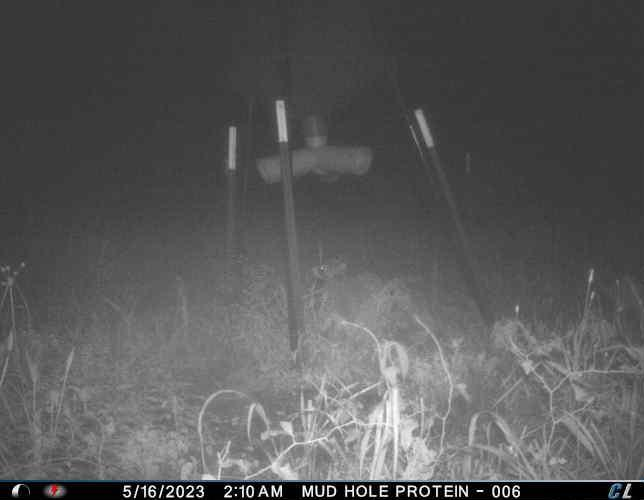Raccoon: (308, 258, 386, 323)
